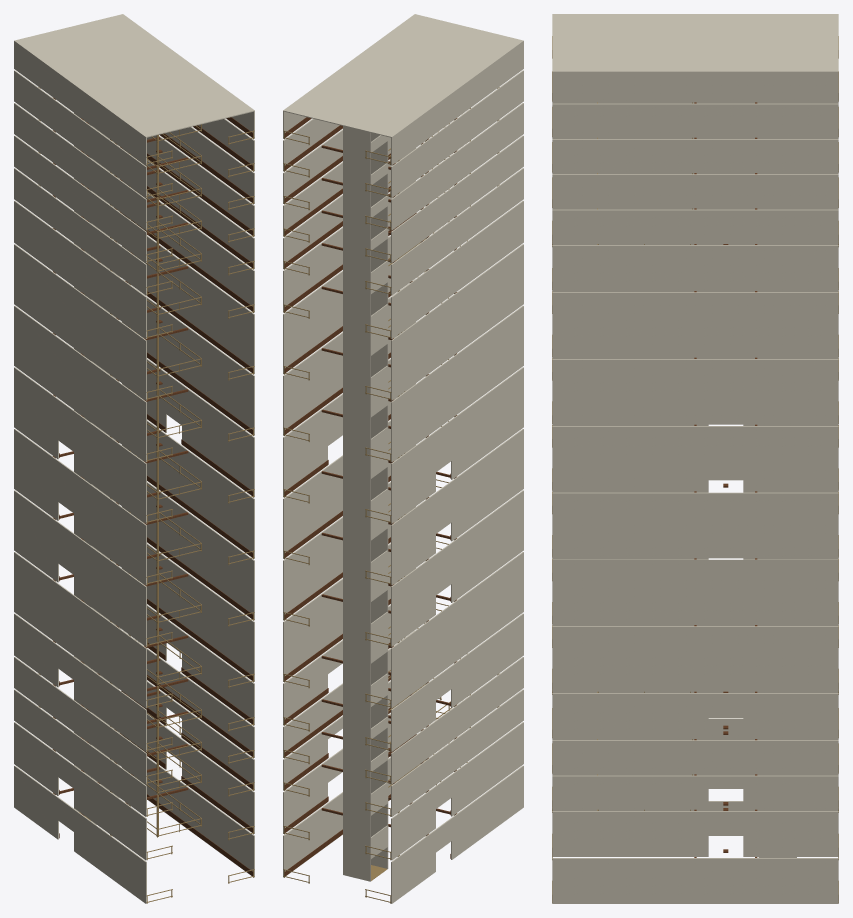
File: AST-CIR-005_aft_repose_d08.glb
The picture shows the model from 3 angles, left to right: view 1: azimuth 30°, elevation 25°; view 2: azimuth 150°, elevation 25°; view 3: azimuth 270°, elevation 25°; orthographic projection. The views are drawn at different scales.
Visible parts, largest first — view 1: CORE_BATCH_ivory_enamel, CORE_BATCH_champagne_metal, CORE_BATCH_warm_walnut, CORE_OuterWall_01_-1_Solar_Aft, CORE_OuterWall_04_-1_hydration_Aft, CORE_OuterWall_04_1_family_waiting_Aft, CORE_OuterWall_01_1_Inspection_Aft, CORE_OuterWall_02_1_Uniforms_Aft, CORE_OuterWall_04_-1_hydration_Fore, CORE_OuterWall_01_-1_Solar_Fore, CORE_OuterWall_04_1_family_waiting_Fore, CORE_OuterWall_01_1_Inspection_Fore; view 2: CORE_BATCH_ivory_enamel, CORE_BATCH_warm_walnut, CORE_BATCH_champagne_metal, CORE_OuterWall_04_-1_hydration_Aft, CORE_OuterWall_01_-1_Solar_Aft, CORE_OuterWall_01_-1_Solar_Fore, CORE_OuterWall_04_-1_hydration_Fore, CORE_OuterWall_04_1_family_waiting_Fore, CORE_OuterWall_01_1_Inspection_Fore, CORE_OuterWall_02_1_Uniforms_Fore; view 3: CORE_BATCH_ivory_enamel, CORE_OuterWall_01_1_Inspection_Aft, CORE_OuterWall_04_1_family_waiting_Aft, CORE_OuterWall_02_1_Uniforms_Aft, CORE_OuterWall_01_1_Inspection_Fore, CORE_OuterWall_04_1_family_waiting_Fore, CORE_OuterWall_02_1_Uniforms_Fore, CORE_BATCH_champagne_metal, CORE_OuterWall_01_1_Inspection_Header, CORE_OuterWall_04_1_family_waiting_Header.
Boxes of the visible parts, left/top/right/bottom form: CORE_BATCH_ivory_enamel: left=14, top=14, right=254, bottom=903; CORE_BATCH_champagne_metal: left=38, top=87, right=254, bottom=903; CORE_BATCH_warm_walnut: left=53, top=97, right=253, bottom=875; CORE_OuterWall_01_-1_Solar_Aft: left=74, top=766, right=146, bottom=860; CORE_OuterWall_04_-1_hydration_Aft: left=74, top=657, right=146, bottom=751; CORE_OuterWall_04_1_family_waiting_Aft: left=182, top=631, right=254, bottom=725; CORE_OuterWall_01_1_Inspection_Aft: left=182, top=739, right=254, bottom=833; CORE_OuterWall_02_1_Uniforms_Aft: left=182, top=707, right=254, bottom=790; CORE_OuterWall_04_-1_hydration_Fore: left=14, top=613, right=58, bottom=687; CORE_OuterWall_01_-1_Solar_Fore: left=14, top=722, right=58, bottom=795; CORE_OuterWall_04_1_family_waiting_Fore: left=147, top=605, right=166, bottom=660; CORE_OuterWall_01_1_Inspection_Fore: left=147, top=714, right=166, bottom=769; CORE_BATCH_ivory_enamel: left=283, top=14, right=523, bottom=903; CORE_BATCH_warm_walnut: left=284, top=117, right=456, bottom=875; CORE_BATCH_champagne_metal: left=283, top=87, right=499, bottom=903; CORE_OuterWall_04_-1_hydration_Aft: left=451, top=613, right=523, bottom=707; CORE_OuterWall_01_-1_Solar_Aft: left=451, top=722, right=523, bottom=816; CORE_OuterWall_01_-1_Solar_Fore: left=391, top=786, right=435, bottom=860; CORE_OuterWall_04_-1_hydration_Fore: left=391, top=678, right=435, bottom=751; CORE_OuterWall_04_1_family_waiting_Fore: left=283, top=651, right=327, bottom=725; CORE_OuterWall_01_1_Inspection_Fore: left=283, top=760, right=327, bottom=833; CORE_OuterWall_02_1_Uniforms_Fore: left=283, top=727, right=327, bottom=790; CORE_BATCH_ivory_enamel: left=552, top=14, right=838, bottom=903; CORE_OuterWall_01_1_Inspection_Aft: left=552, top=811, right=708, bottom=856; CORE_OuterWall_04_1_family_waiting_Aft: left=552, top=693, right=708, bottom=738; CORE_OuterWall_02_1_Uniforms_Aft: left=552, top=775, right=708, bottom=809; CORE_OuterWall_01_1_Inspection_Fore: left=743, top=811, right=838, bottom=856; CORE_OuterWall_04_1_family_waiting_Fore: left=743, top=693, right=838, bottom=738; CORE_OuterWall_02_1_Uniforms_Fore: left=743, top=775, right=838, bottom=809; CORE_BATCH_champagne_metal: left=552, top=36, right=838, bottom=902; CORE_OuterWall_01_1_Inspection_Header: left=708, top=811, right=743, bottom=835; CORE_OuterWall_04_1_family_waiting_Header: left=708, top=693, right=743, bottom=717.
Bounding box in the file's own units: 15.76 × 106 × 33.08.
Materials: 4 (3 with a texture image).
